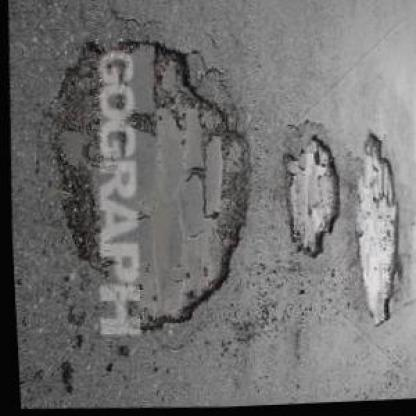pothole: (36, 25, 268, 342), (351, 131, 403, 332), (277, 134, 344, 265)
